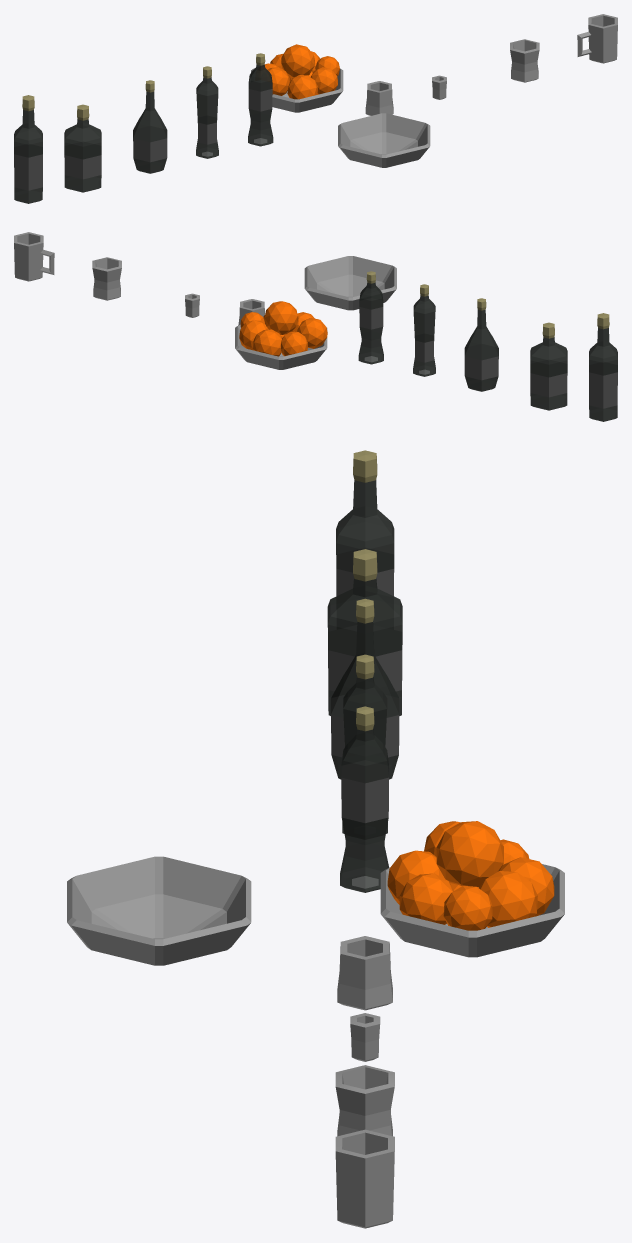
The model's file is kitchen_items.FBX.
3 renders of one model, top to bottom at view 1: azimuth 30°, elevation 25°; view 2: azimuth 150°, elevation 25°; view 3: azimuth 270°, elevation 25°, orthographic. The views are drawn at different scales.
Visible parts, largest first — view 1: plate_empty, oranges, bottle2, bottle1, bottle3, bottle5, bottle4, glass4, glass3, glass1, glass2; view 2: oranges, plate_empty, bottle2, bottle1, bottle3, bottle5, bottle4, glass4, glass3, glass1, glass2; view 3: oranges, plate_empty, bottle5, bottle2, glass4, bottle1, bottle3, glass3, glass1, bottle4, glass2.
Part boxes in pixels (x1=…): plate_empty: x1=338, y1=113, x2=430, y2=167; oranges: x1=251, y1=44, x2=343, y2=112; bottle2: x1=64, y1=104, x2=101, y2=192; bottle1: x1=14, y1=95, x2=42, y2=203; bottle3: x1=133, y1=80, x2=167, y2=173; bottle5: x1=248, y1=53, x2=273, y2=146; bottle4: x1=196, y1=66, x2=218, y2=158; glass4: x1=577, y1=14, x2=617, y2=63; glass3: x1=510, y1=39, x2=539, y2=82; glass1: x1=365, y1=81, x2=393, y2=115; glass2: x1=432, y1=75, x2=446, y2=99; oranges: x1=235, y1=301, x2=327, y2=369; plate_empty: x1=304, y1=256, x2=396, y2=310; bottle2: x1=530, y1=322, x2=567, y2=410; bottle1: x1=589, y1=313, x2=617, y2=421; bottle3: x1=464, y1=298, x2=498, y2=391; bottle5: x1=358, y1=271, x2=383, y2=364; bottle4: x1=413, y1=284, x2=435, y2=376; glass4: x1=14, y1=232, x2=54, y2=281; glass3: x1=92, y1=257, x2=121, y2=300; glass1: x1=238, y1=299, x2=264, y2=325; glass2: x1=185, y1=293, x2=199, y2=317; oranges: x1=380, y1=821, x2=564, y2=957; plate_empty: x1=67, y1=856, x2=251, y2=965; bottle5: x1=340, y1=706, x2=388, y2=892; bottle2: x1=327, y1=549, x2=402, y2=715; glass4: x1=335, y1=1129, x2=394, y2=1228; bottle1: x1=336, y1=450, x2=394, y2=596; bottle3: x1=331, y1=598, x2=399, y2=779; glass3: x1=335, y1=1065, x2=394, y2=1136; glass1: x1=337, y1=936, x2=392, y2=1010; bottle4: x1=342, y1=654, x2=387, y2=833; glass2: x1=350, y1=1013, x2=380, y2=1061.
Size of the model in its own units: 14.1 by 5.04 by 2.25.
